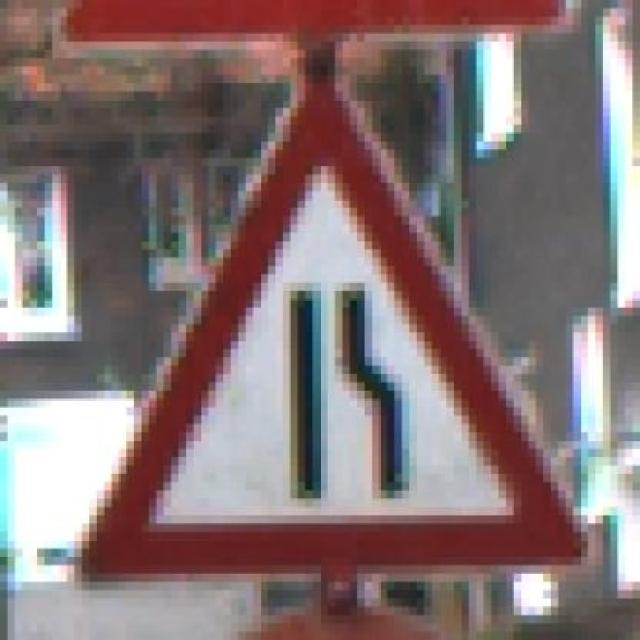-Road narrows on right: (59, 70, 596, 585)
